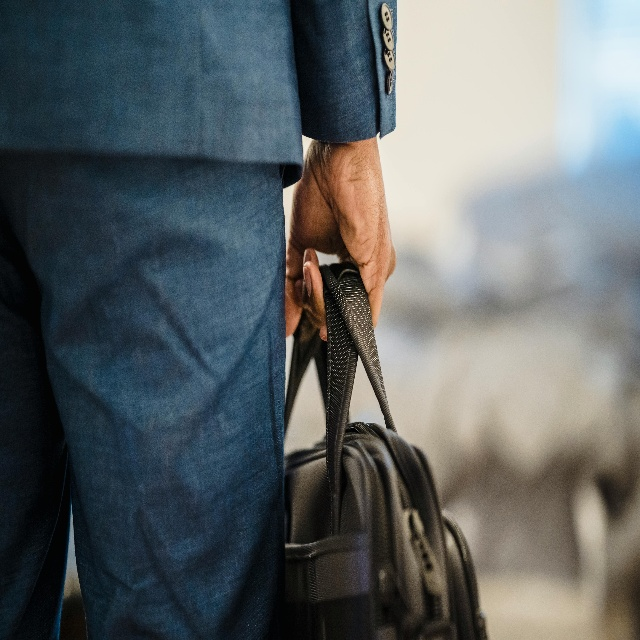Sin_guantes: (285, 129, 397, 343)
